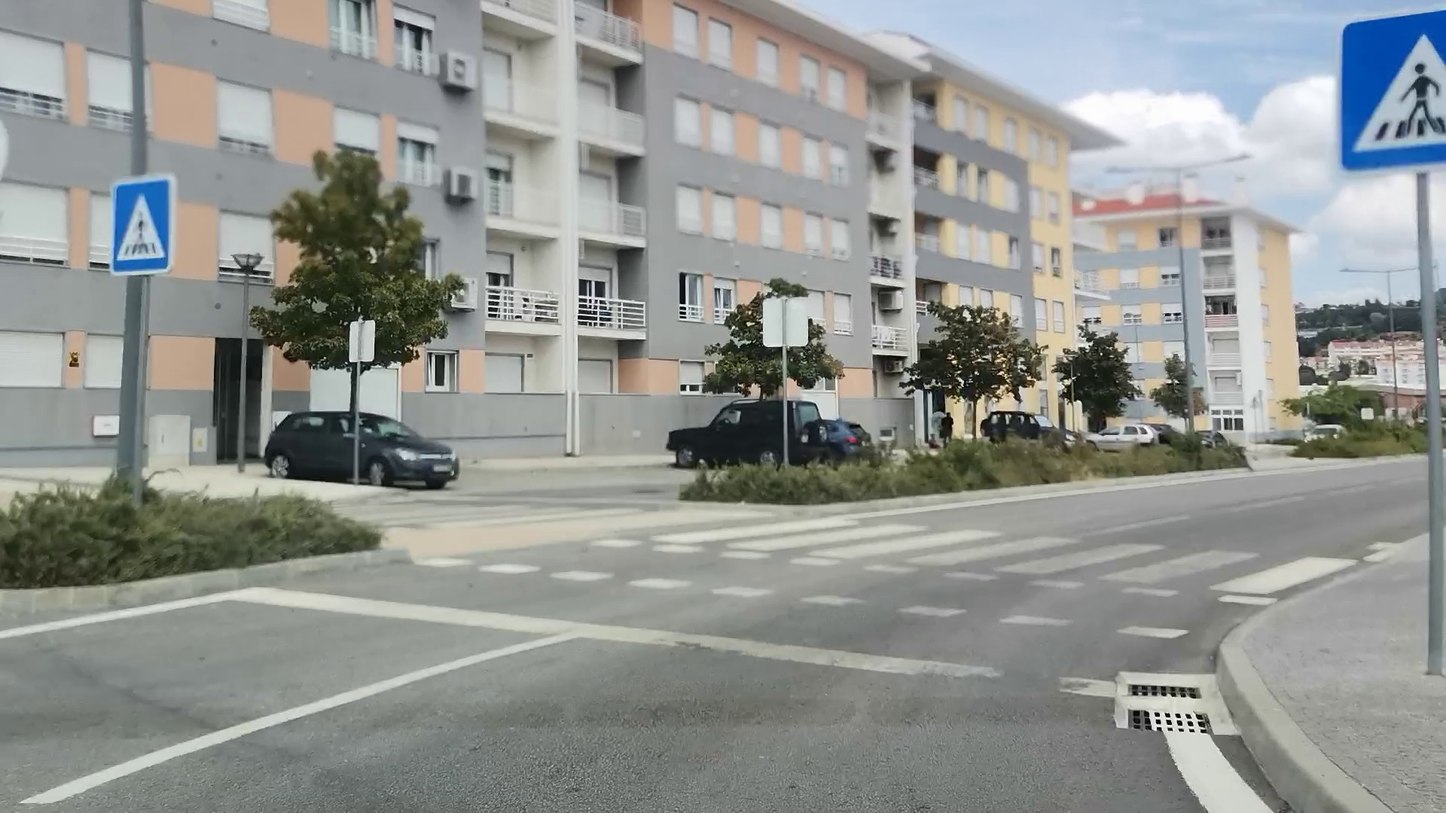Stairs: (667, 513, 1359, 596)
